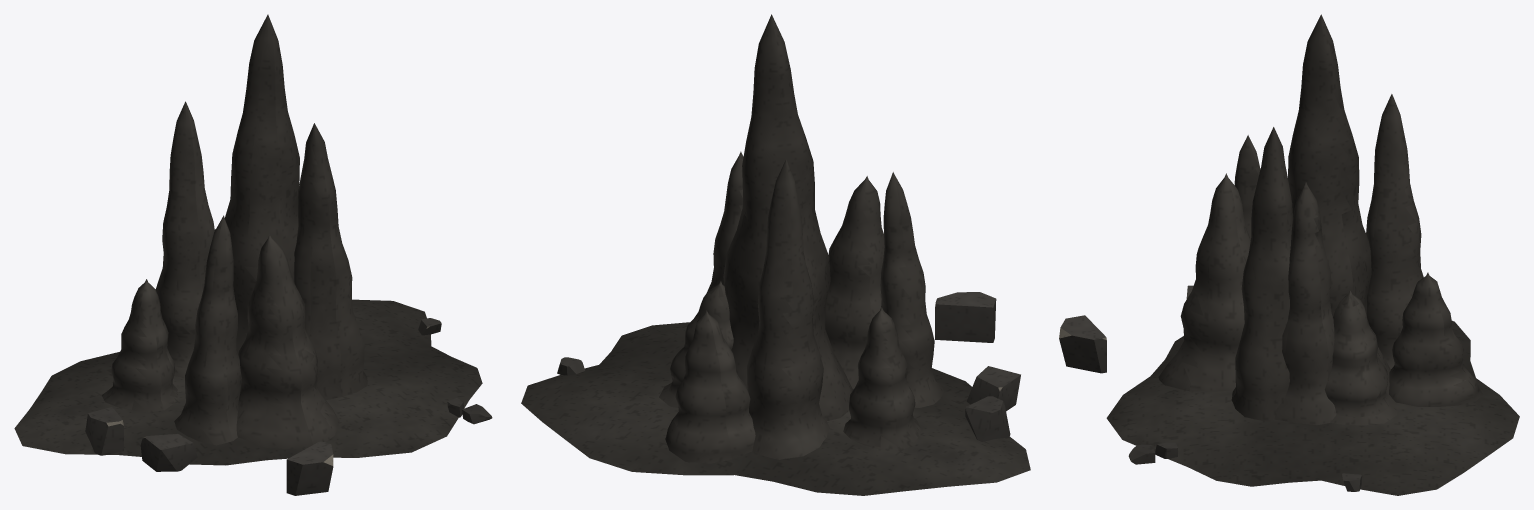
3 views of the same model, side by side, from view 1: azimuth 30°, elevation 25°; view 2: azimuth 150°, elevation 25°; view 3: azimuth 270°, elevation 25° (orthographic). The views are drawn at different scales.
Parts seen in each view (by area): view 1: weathered mineral; view 2: weathered mineral; view 3: weathered mineral.
Part boxes in pixels (x1,y1,x2,y2): weathered mineral: [14, 14, 491, 495]; weathered mineral: [521, 14, 1030, 495]; weathered mineral: [1059, 14, 1519, 495].
Bounding box in the file's own units: 1.09 × 0.88 × 0.9566.
Materials: 2 (2 with a texture image).
